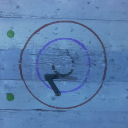Axe Tip: (51, 74, 61, 77)
